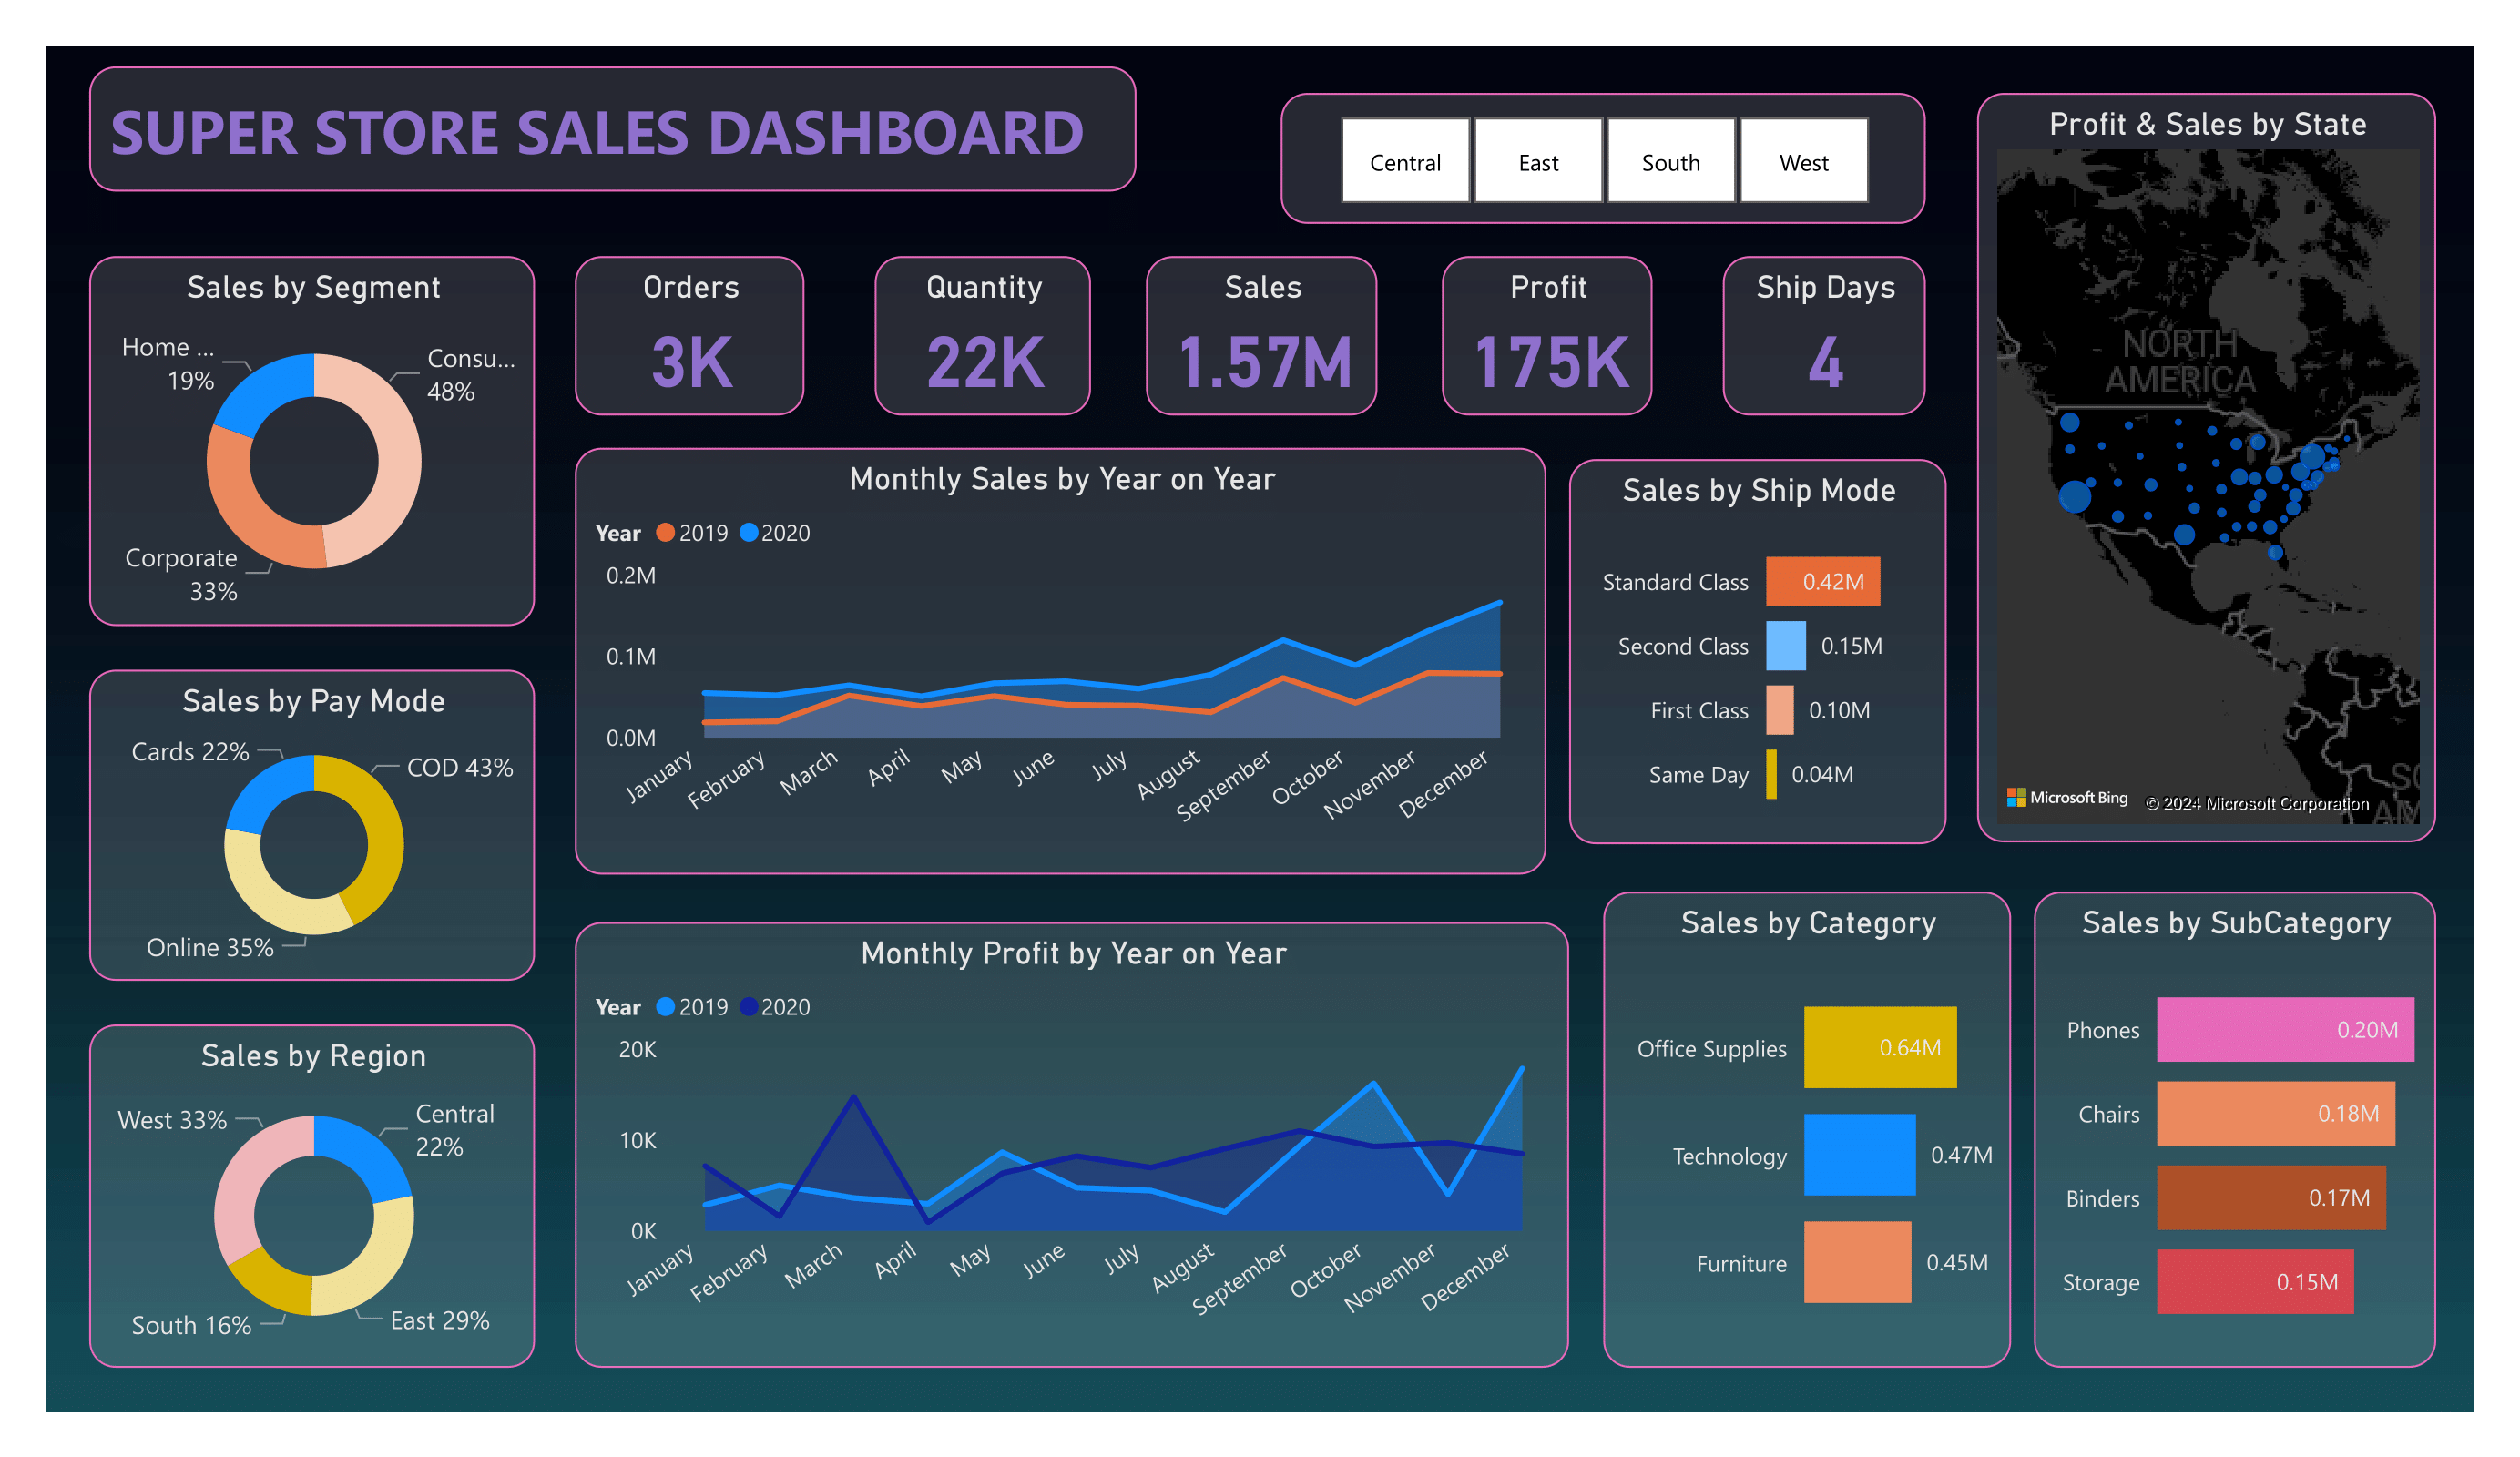

The dashboard page shown, as its layout file describes it:
{"tool":"powerbi","page":{"name":"Page 1","canvas":[1280,720],"ordinal":0},"visuals":[{"type":"barChart","title":"Sales by Category","fields":{"Category":["SuperStore_Sales_Dataset.Category"],"Y":["Sum(SuperStore_Sales_Dataset.Sales)"]},"box":[821.3,446.2,214.7,250.9],"z":0},{"type":"barChart","title":"Sales by SubCategory","fields":{"Category":["SuperStore_Sales_Dataset.Sub-Category"],"Y":["Sum(SuperStore_Sales_Dataset.Sales)"]},"box":[1048,446.2,212.3,250.9],"z":1000},{"type":"barChart","title":"Sales by Ship Mode","fields":{"Category":["SuperStore_Sales_Dataset.Ship Mode"],"Y":["Sum(SuperStore_Sales_Dataset.Sales)"]},"box":[803.2,218.3,199,202.6],"z":2000},{"type":"areaChart","title":"Monthly Sales by Year on Year","fields":{"Series":["SuperStore_Sales_Dataset.Order Date.Variation.Date Hierarchy.Year"],"Category":["SuperStore_Sales_Dataset.Order Date.Variation.Date Hierarchy.Month","SuperStore_Sales_Dataset.Order Date.Variation.Date Hierarchy.Day"],"Y":["Sum(SuperStore_Sales_Dataset.Sales)"]},"box":[278.6,212.3,512.6,224.3],"z":3000},{"type":"areaChart","title":"Monthly Profit by Year on Year","fields":{"Category":["SuperStore_Sales_Dataset.Order Date.Variation.Date Hierarchy.Month","SuperStore_Sales_Dataset.Order Date.Variation.Date Hierarchy.Day"],"Y":["Sum(SuperStore_Sales_Dataset.Profit)"],"Series":["SuperStore_Sales_Dataset.Order Date.Variation.Date Hierarchy.Year"]},"box":[278.6,461.9,524.6,235.2],"z":4000},{"type":"map","title":"Profit & Sales by State","fields":{"Category":["SuperStore_Sales_Dataset.State"],"Size":["Sum(SuperStore_Sales_Dataset.Sales)"]},"box":[1017.9,25.3,242.4,394.4],"z":5000},{"type":"donutChart","title":"Sales by Segment","fields":{"Category":["SuperStore_Sales_Dataset.Segment"],"Y":["Sum(SuperStore_Sales_Dataset.Sales)"]},"box":[22.9,111,235.2,195.4],"z":6000},{"type":"donutChart","title":"Sales by Pay Mode","fields":{"Y":["Sum(SuperStore_Sales_Dataset.Sales)"],"Category":["SuperStore_Sales_Dataset.Payment Mode"]},"box":[22.9,329.2,235.2,164],"z":7000},{"type":"donutChart","title":"Sales by Region","fields":{"Y":["Sum(SuperStore_Sales_Dataset.Sales)"],"Series":["SuperStore_Sales_Dataset.Region"]},"box":[22.9,516.2,235.2,180.9],"z":8000},{"type":"slicer","fields":{"Values":["SuperStore_Sales_Dataset.Region"]},"box":[651.3,25.3,340.1,68.7],"z":9000},{"type":"textbox","box":[23.3,11,551.6,65.9],"z":10000},{"type":"card","title":"Sales","fields":{"Values":["Sum(SuperStore_Sales_Dataset.Sales)"]},"box":[580.1,111,121.8,84.4],"z":11000},{"type":"card","title":"Profit","fields":{"Values":["Sum(SuperStore_Sales_Dataset.Profit)"]},"box":[735.7,111,111,84.4],"z":12000},{"type":"card","title":"Quantity","fields":{"Values":["Sum(SuperStore_Sales_Dataset.Quantity)"]},"box":[436.6,111,114.6,84.4],"z":13000},{"type":"card","title":"Orders","fields":{"Values":["Count(SuperStore_Sales_Dataset.Order ID)"]},"box":[278.6,111,121.8,84.4],"z":14000},{"type":"card","title":"Ship Days","fields":{"Values":["Avg(SuperStore_Sales_Dataset.Days to Deliver)"]},"box":[884,111,107.3,84.4],"z":15000}]}

Visuals, with their boxes on the page's 1280x720 design canvas (x1, y1, x2, y2). These are canvas units, not pixel positions in the 2520x1457 screenshot, which may show the page scaled, cropped or inside an application window:
"Sales by Category" barChart: region(821, 446, 1036, 697)
"Sales by SubCategory" barChart: region(1048, 446, 1260, 697)
"Sales by Ship Mode" barChart: region(803, 218, 1002, 421)
"Monthly Sales by Year on Year" areaChart: region(279, 212, 791, 437)
"Monthly Profit by Year on Year" areaChart: region(279, 462, 803, 697)
"Profit & Sales by State" map: region(1018, 25, 1260, 420)
"Sales by Segment" donutChart: region(23, 111, 258, 306)
"Sales by Pay Mode" donutChart: region(23, 329, 258, 493)
"Sales by Region" donutChart: region(23, 516, 258, 697)
slicer - SuperStore_Sales_Dataset.Region: region(651, 25, 991, 94)
textbox: region(23, 11, 575, 77)
"Sales" card: region(580, 111, 702, 195)
"Profit" card: region(736, 111, 847, 195)
"Quantity" card: region(437, 111, 551, 195)
"Orders" card: region(279, 111, 400, 195)
"Ship Days" card: region(884, 111, 991, 195)
